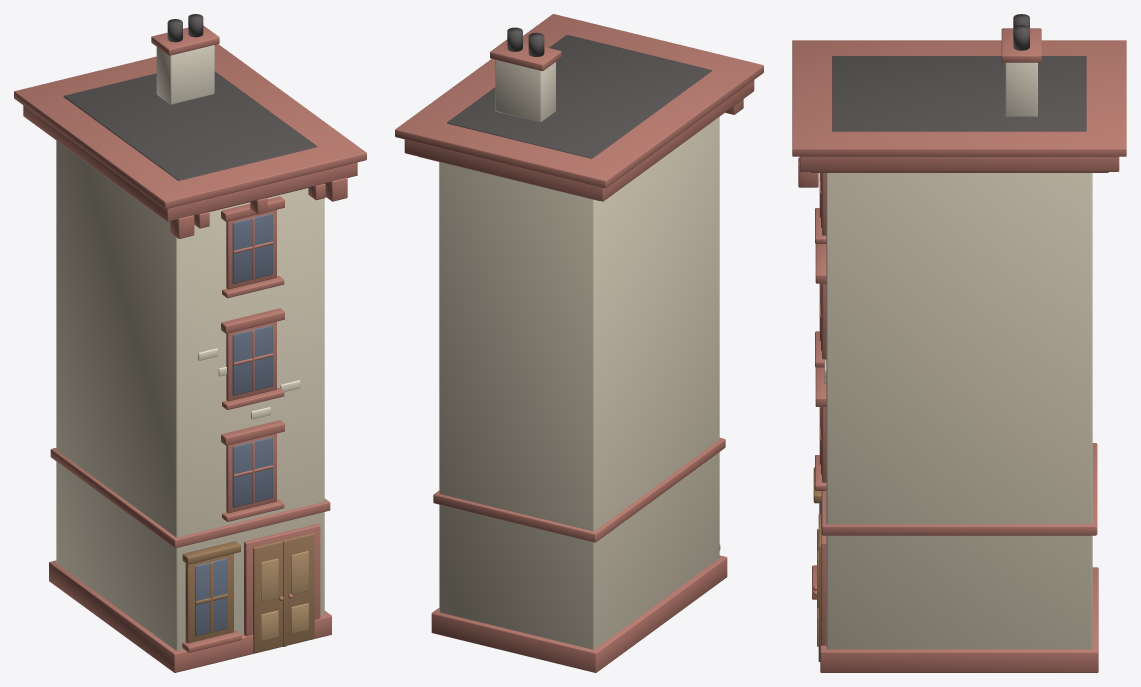
The model's file is edificio_03a.glb.
The picture shows the model from 3 angles, left to right: view 1: azimuth 30°, elevation 25°; view 2: azimuth 150°, elevation 25°; view 3: azimuth 270°, elevation 25°; orthographic projection. The views are drawn at different scales.
Parts seen in each view (by area): view 1: corpo, cornicione_corona, tetto, zoccolo, cornicione_fascia, fascia_pt, comignolo_fusto, fin_p1_0_vetro, fin_p2_0_vetro, fin_p3_0_vetro, porta_anta_L, porta_cornice (+17 smaller); view 2: corpo, cornicione_corona, tetto, zoccolo, cornicione_fascia, fascia_pt, comignolo_fusto, comignolo_cappello; view 3: corpo, cornicione_corona, tetto, zoccolo, cornicione_fascia, fascia_pt, comignolo_fusto, comignolo_cappello, porta_cornice.
Boxes of the visible parts, left/top/right/bottom form: corpo: left=56, top=140, right=324, bottom=650; cornicione_corona: left=14, top=44, right=366, bottom=208; tetto: left=63, top=71, right=317, bottom=180; zoccolo: left=49, top=560, right=331, bottom=672; cornicione_fascia: left=23, top=105, right=357, bottom=221; fascia_pt: left=50, top=448, right=330, bottom=548; comignolo_fusto: left=156, top=45, right=214, bottom=104; fin_p1_0_vetro: left=232, top=437, right=272, bottom=507; fin_p2_0_vetro: left=232, top=325, right=272, bottom=395; fin_p3_0_vetro: left=232, top=213, right=272, bottom=283; porta_anta_L: left=253, top=540, right=283, bottom=653; porta_cornice: left=244, top=524, right=320, bottom=636; corpo: left=439, top=117, right=719, bottom=649; cornicione_corona: left=395, top=14, right=763, bottom=188; tetto: left=447, top=35, right=711, bottom=158; zoccolo: left=431, top=555, right=727, bottom=672; cornicione_fascia: left=404, top=80, right=754, bottom=201; fascia_pt: left=433, top=437, right=725, bottom=542; comignolo_fusto: left=495, top=60, right=555, bottom=122; comignolo_cappello: left=490, top=39, right=561, bottom=71; corpo: left=826, top=173, right=1092, bottom=649; cornicione_corona: left=792, top=40, right=1126, bottom=156; tetto: left=832, top=56, right=1086, bottom=131; zoccolo: left=820, top=567, right=1098, bottom=672; cornicione_fascia: left=799, top=156, right=1119, bottom=171; fascia_pt: left=821, top=443, right=1097, bottom=535; comignolo_fusto: left=1005, top=62, right=1037, bottom=116; comignolo_cappello: left=1001, top=28, right=1041, bottom=62; porta_cornice: left=821, top=504, right=826, bottom=645.
Bounding box in the file's own units: 4.35 × 11.56 × 5.65.
